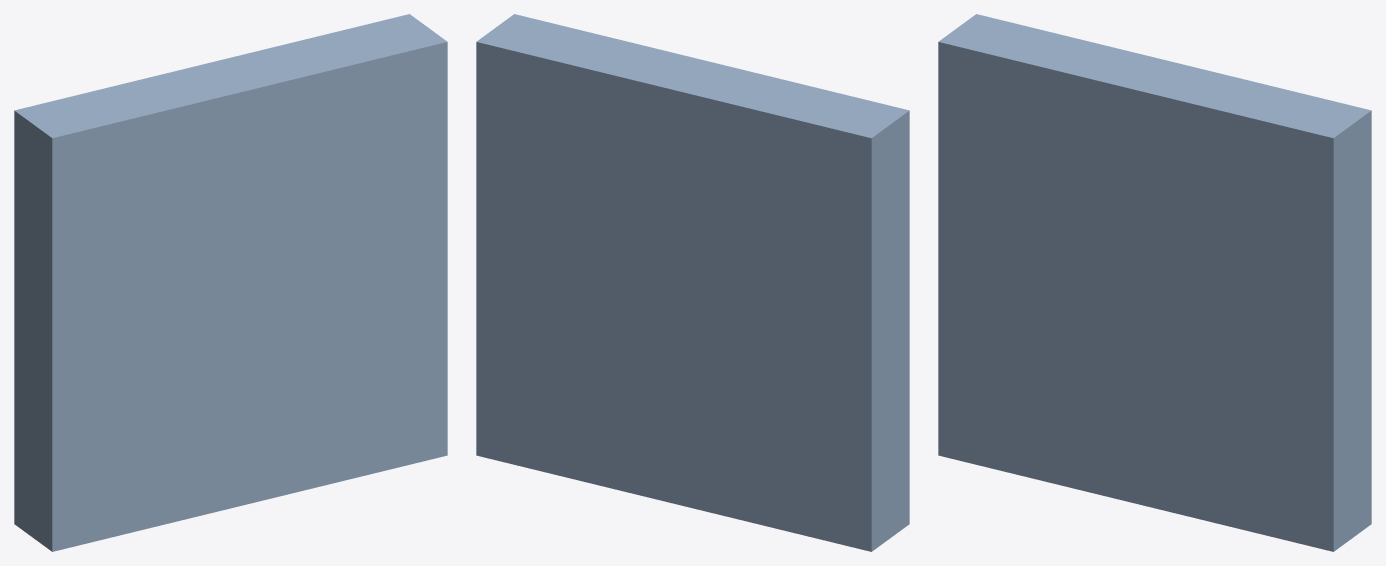
The model's file is basicBody.glb.
3 views of the same model, side by side, from view 1: azimuth 30°, elevation 25°; view 2: azimuth 150°, elevation 25°; view 3: azimuth 330°, elevation 25° (orthographic).
Visible parts, largest first — view 1: generated(Clone); view 2: generated(Clone); view 3: generated(Clone).
Part boxes in pixels (box(x1,y1,x2,y2)): generated(Clone): box(14, 14, 447, 551); generated(Clone): box(476, 14, 909, 551); generated(Clone): box(938, 14, 1371, 551).
Bounding box in the file's own units: 6 × 6 × 1.
